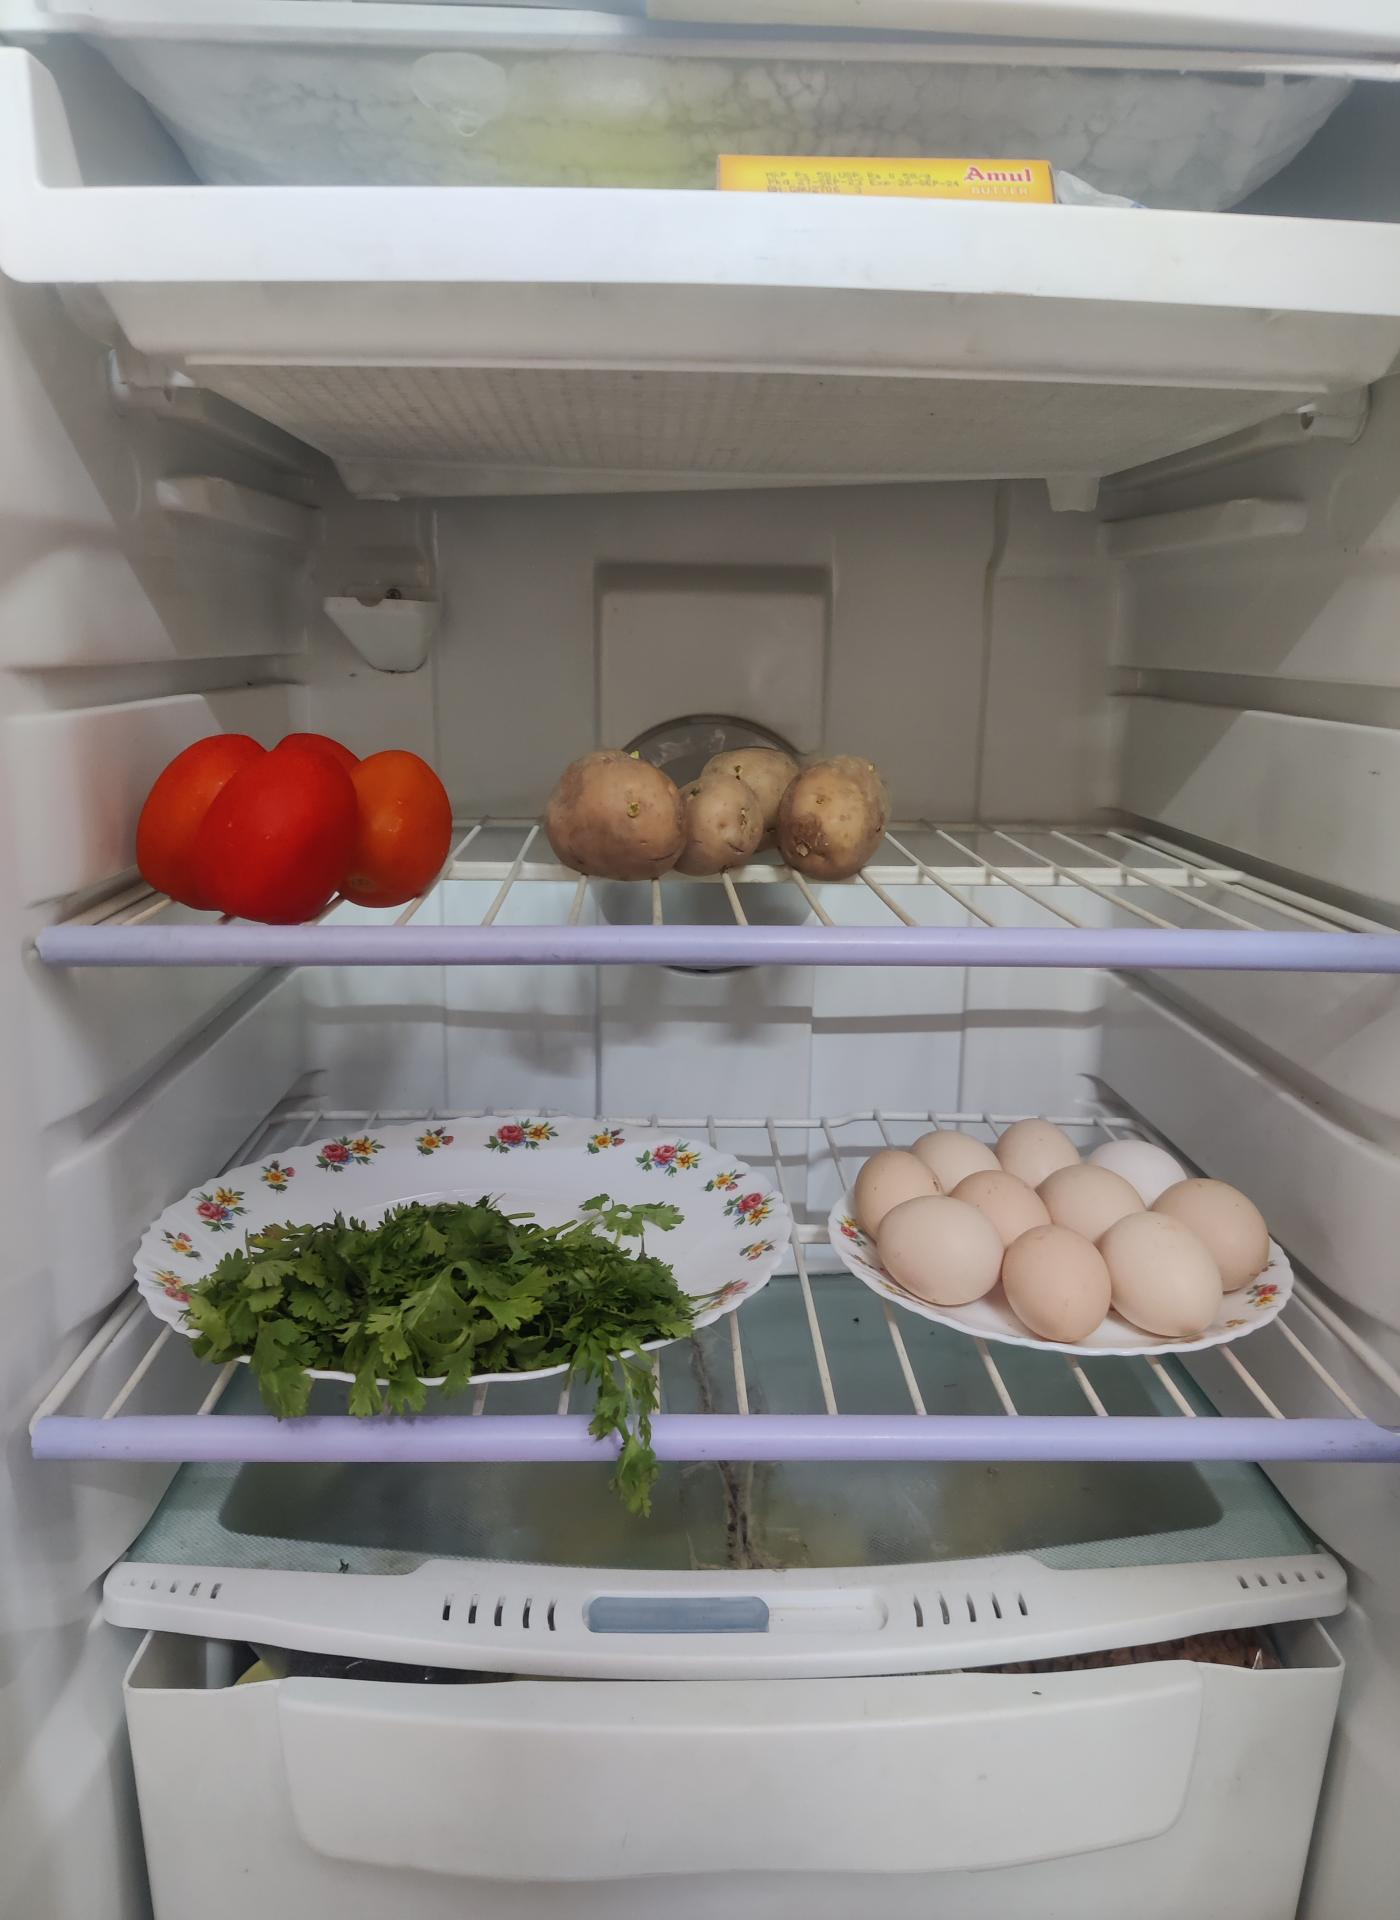coriander: (185, 1194, 687, 1406)
egg: (868, 1112, 1285, 1352)
potato: (550, 739, 899, 884)
tomato: (140, 735, 458, 929)
